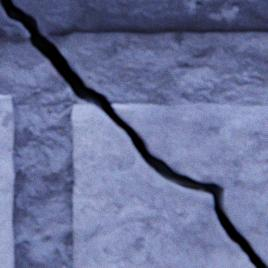brick: (0, 95, 14, 267)
broken_brick: (71, 104, 253, 267), (112, 103, 267, 265), (12, 0, 267, 35), (0, 4, 29, 36)
crack: (0, 0, 267, 267)
